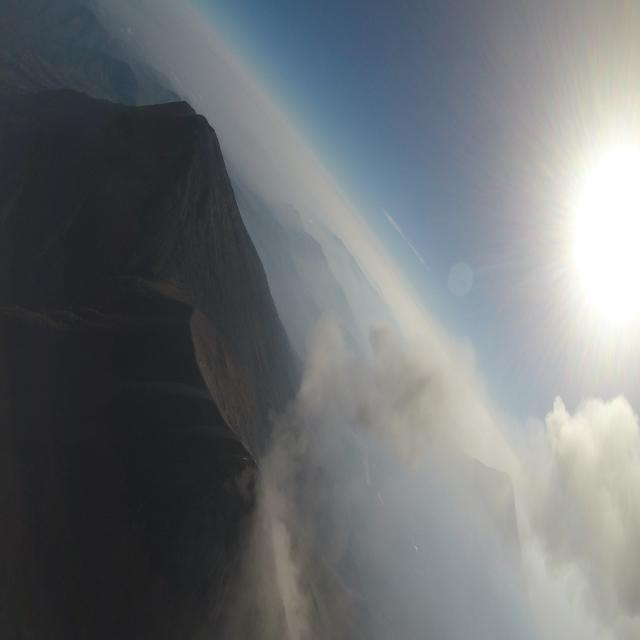Plume: (297, 298, 479, 476), (531, 374, 640, 640)
Summit: (218, 438, 272, 534)
